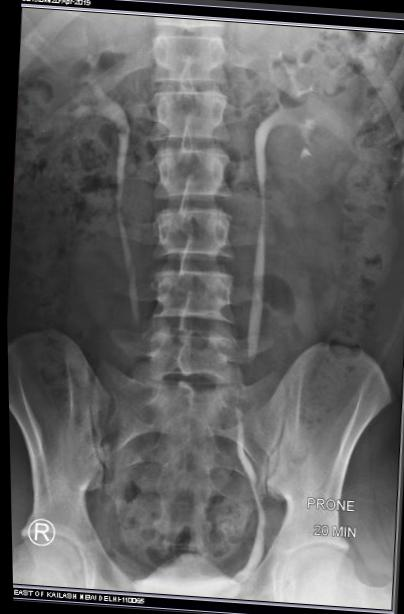vertebrae: (149, 82, 240, 140)
